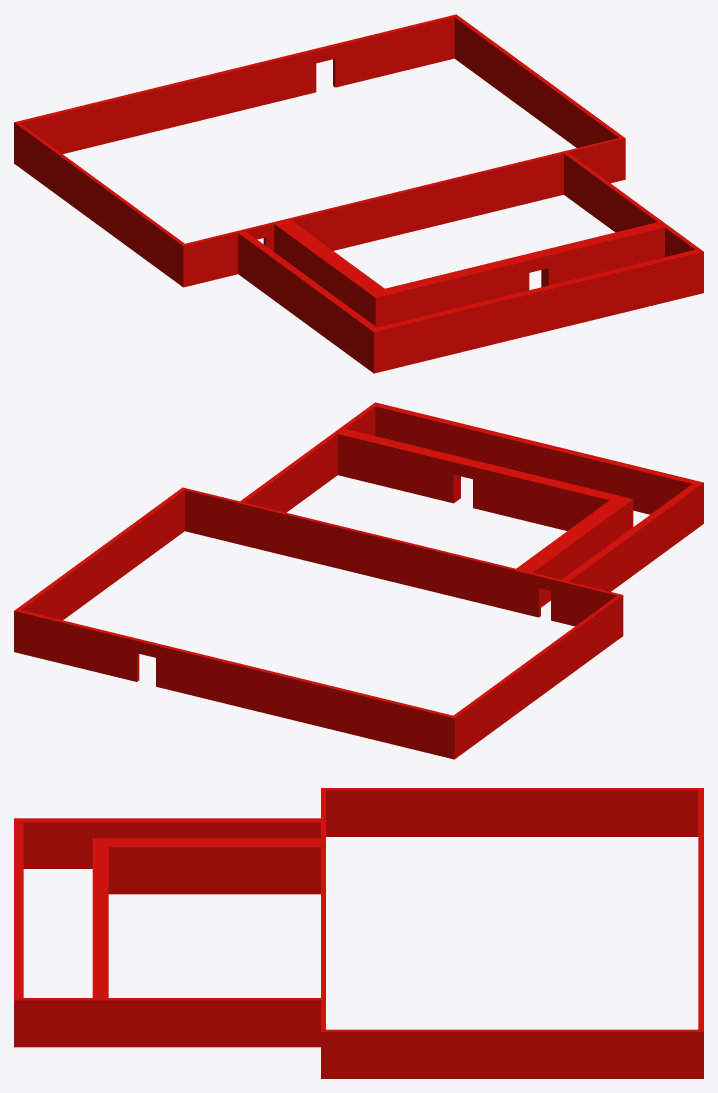
The picture shows the model from 3 angles, top to bottom: view 1: azimuth 30°, elevation 25°; view 2: azimuth 150°, elevation 25°; view 3: azimuth 270°, elevation 25°; orthographic projection. The views are drawn at different scales.
Visible parts, largest first — view 1: main; view 2: main; view 3: main.
Part boxes in pixels (x1=…): main: x1=14, y1=14, x2=703, y2=373; main: x1=14, y1=402, x2=703, y2=759; main: x1=14, y1=788, x2=703, y2=1078.
Size of the model in its own units: 60.79 by 5.43 by 72.62.
